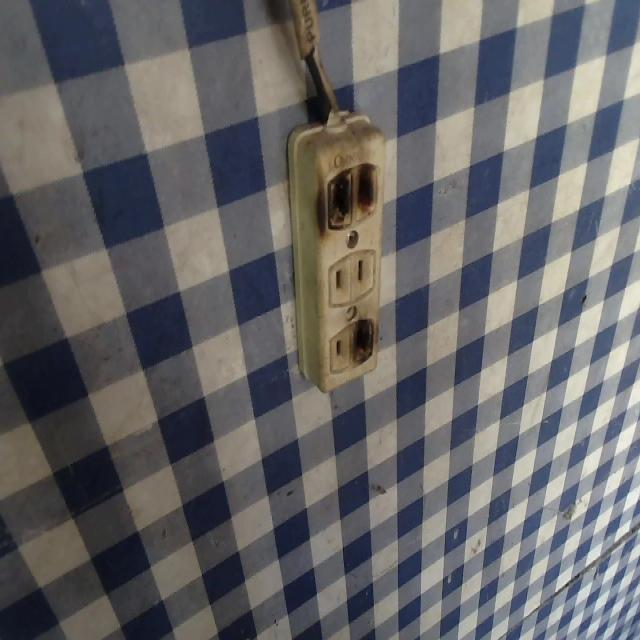-: (315, 159, 379, 233), (346, 312, 378, 368)
